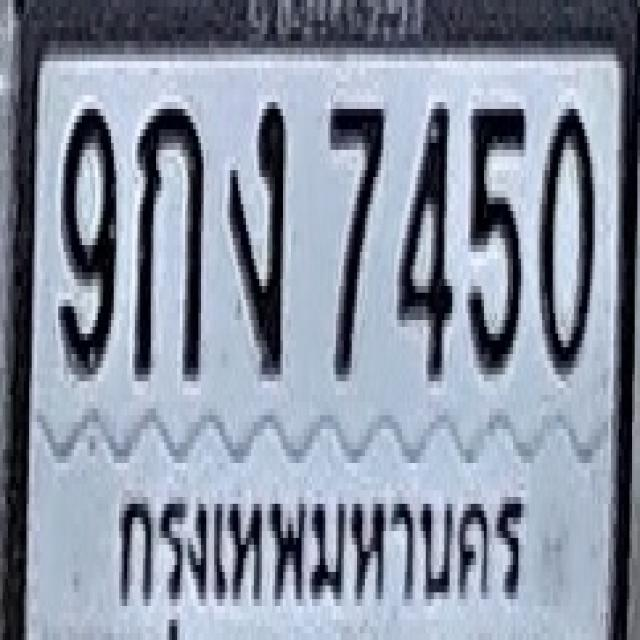-: (132, 99, 204, 378), (228, 99, 286, 371)
0: (538, 99, 594, 371)
4: (397, 99, 452, 378)
5: (468, 99, 526, 371)
7: (328, 102, 383, 375)
9: (60, 99, 115, 371)
BKK: (105, 447, 538, 640)
